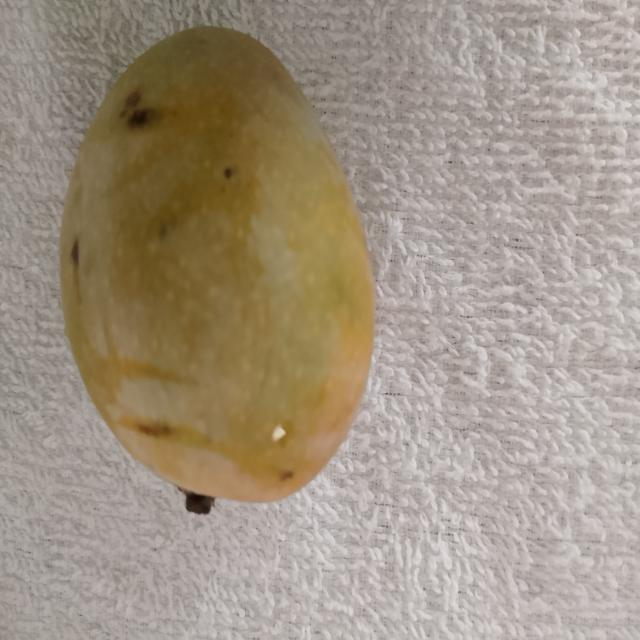mango: (61, 27, 374, 501)
